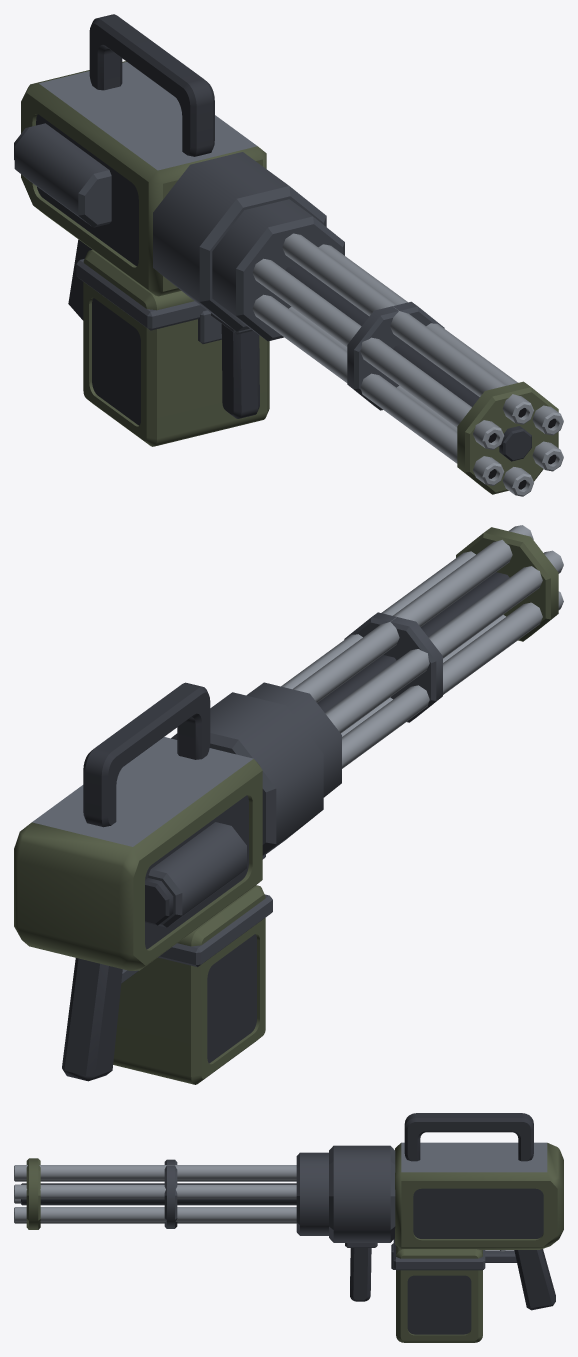
File: w_minigun.glb
3 views of the same model, one above another, from view 1: azimuth 30°, elevation 25°; view 2: azimuth 150°, elevation 25°; view 3: azimuth 270°, elevation 25° (orthographic). The views are drawn at different scales.
Parts seen in each view (by area): view 1: barrels_wzB__steel__p8a9099, box_wzA__body__p545c46, housing_wzB__frame__p444851, barrels_wzB__frame__p444851, body_wzA__body__p545c46, body_wzB__deck__p676d78, handle_wzB__dark__p353840, motor_wzB__frame__p444851, box_wzN__dark__p353840, barrels_wzA__body__p545c46, body_wzN__dark__p353840, barrels_wzB__dark__p353840 (+3 smaller); view 2: body_wzA__body__p545c46, barrels_wzB__steel__p8a9099, box_wzA__body__p545c46, housing_wzB__frame__p444851, body_wzB__deck__p676d78, handle_wzB__dark__p353840, barrels_wzB__frame__p444851, grip_wzB__dark__p353840, motor_wzB__frame__p444851, box_wzN__dark__p353840, barrels_wzA__body__p545c46, barrels_wzB__dark__p353840 (+3 smaller); view 3: barrels_wzB__steel__p8a9099, body_wzA__body__p545c46, body_wzN__dark__p353840, housing_wzB__frame__p444851, body_wzB__deck__p676d78, box_wzN__dark__p353840, barrels_wzB__frame__p444851, box_wzA__body__p545c46, handle_wzB__dark__p353840, barrels_wzB__dark__p353840, grip_wzB__dark__p353840, box_wzN__frame__p444851 (+3 smaller).
Boxes of the visible parts, <box> form: barrels_wzB__steel__p8a9099: <box>252,233,563,496</box>; box_wzA__body__p545c46: <box>83,249,269,446</box>; housing_wzB__frame__p444851: <box>153,152,326,331</box>; barrels_wzB__frame__p444851: <box>212,199,444,410</box>; body_wzA__body__p545c46: <box>21,61,266,296</box>; body_wzB__deck__p676d78: <box>39,62,257,170</box>; handle_wzB__dark__p353840: <box>89,14,214,156</box>; motor_wzB__frame__p444851: <box>14,123,111,227</box>; box_wzN__dark__p353840: <box>92,298,140,425</box>; barrels_wzA__body__p545c46: <box>457,381,558,494</box>; body_wzN__dark__p353840: <box>36,114,138,266</box>; barrels_wzB__dark__p353840: <box>285,264,531,461</box>; body_wzA__body__p545c46: <box>14,759,262,970</box>; barrels_wzB__steel__p8a9099: <box>281,525,563,768</box>; box_wzA__body__p545c46: <box>113,885,265,1084</box>; housing_wzB__frame__p444851: <box>171,692,323,856</box>; body_wzB__deck__p676d78: <box>32,737,253,846</box>; handle_wzB__dark__p353840: <box>83,682,210,827</box>; barrels_wzB__frame__p444851: <box>246,612,442,797</box>; grip_wzB__dark__p353840: <box>62,958,122,1081</box>; motor_wzB__frame__p444851: <box>148,822,246,927</box>; box_wzN__dark__p353840: <box>207,934,256,1063</box>; barrels_wzA__body__p545c46: <box>456,527,558,641</box>; barrels_wzB__dark__p353840: <box>317,572,509,712</box>; barrels_wzB__steel__p8a9099: <box>14,1165,296,1223</box>; body_wzA__body__p545c46: <box>395,1143,563,1249</box>; body_wzN__dark__p353840: <box>413,1188,543,1238</box>; housing_wzB__frame__p444851: <box>329,1145,395,1242</box>; body_wzB__deck__p676d78: <box>401,1142,547,1172</box>; box_wzN__dark__p353840: <box>407,1275,471,1334</box>; barrels_wzB__frame__p444851: <box>164,1152,328,1235</box>; box_wzA__body__p545c46: <box>396,1245,482,1342</box>; handle_wzB__dark__p353840: <box>404,1113,533,1161</box>; barrels_wzB__dark__p353840: <box>21,1183,296,1205</box>; grip_wzB__dark__p353840: <box>514,1249,555,1310</box>; box_wzN__frame__p444851: <box>391,1238,485,1270</box>.
Bounding box in the file's own units: 0.1844 × 0.402 × 0.95.
